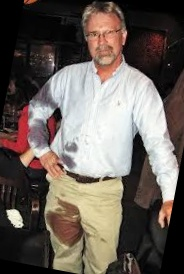wine: (43, 195, 88, 250), (57, 148, 87, 173), (27, 115, 49, 147), (37, 84, 61, 109), (60, 136, 85, 157)
